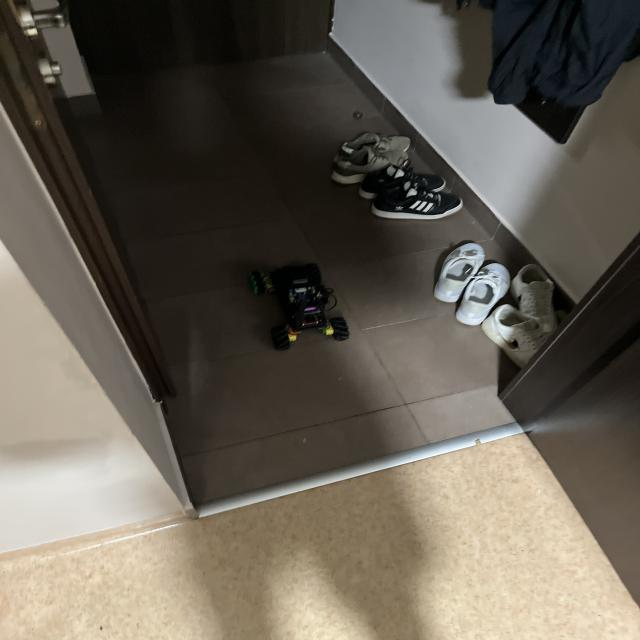robot: (248, 263, 349, 350)
